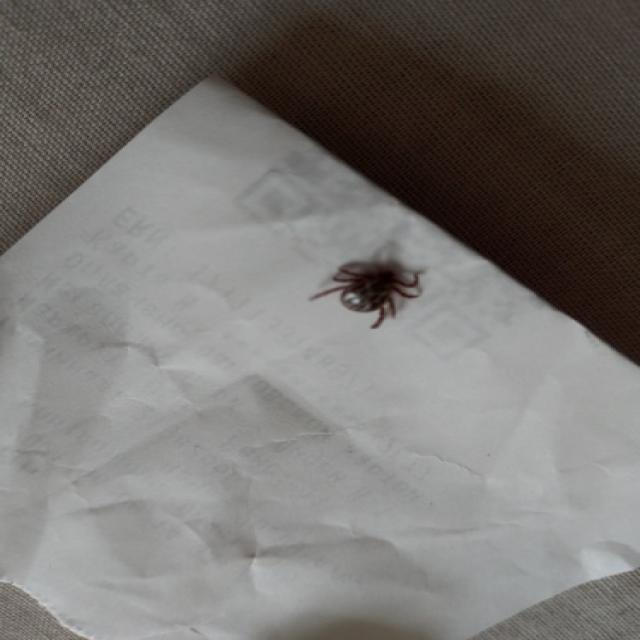Dermacentor Reticulatus-M: (309, 260, 427, 329)
